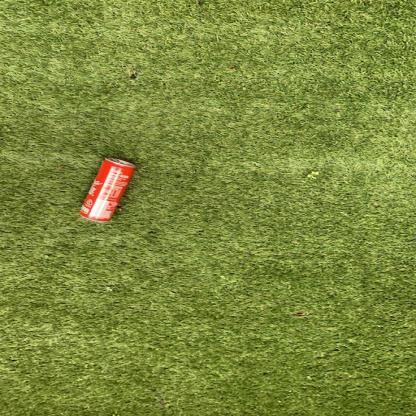trash: (70, 155, 145, 226)
